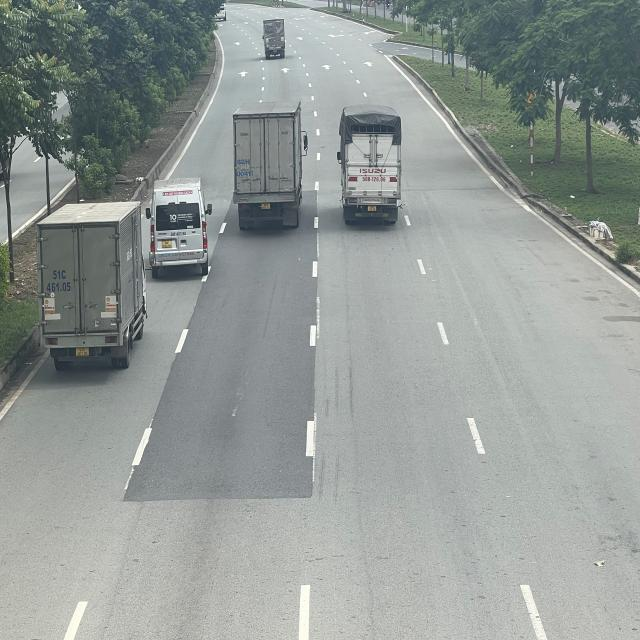truck: (37, 200, 151, 366), (231, 99, 308, 227), (336, 102, 401, 224), (260, 14, 286, 56)
van: (146, 177, 212, 274)
